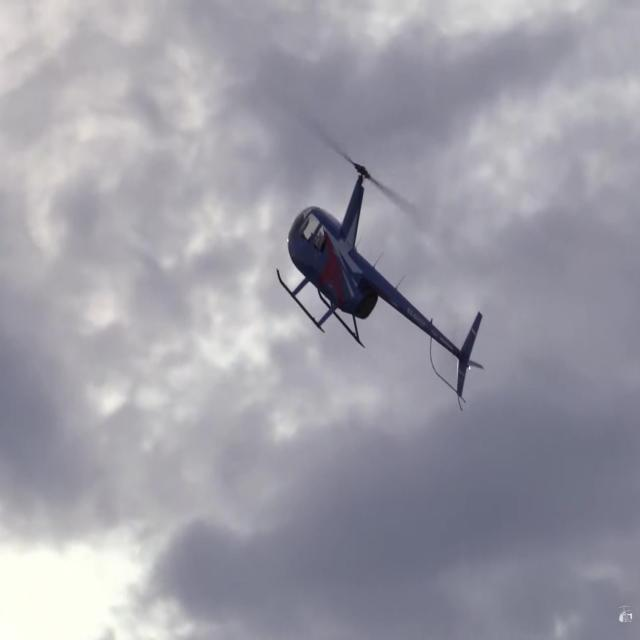CIV_HELO: (275, 160, 485, 399)
